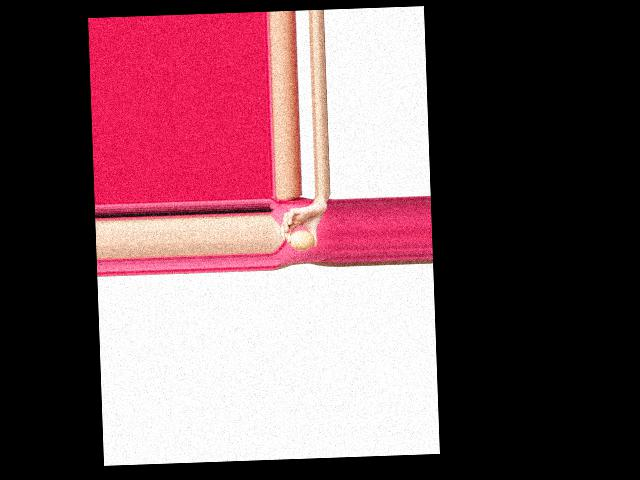egg: (288, 229, 314, 250)
